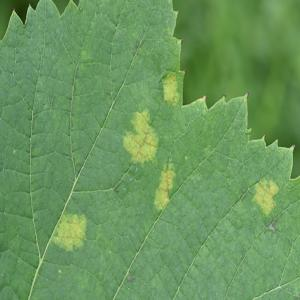Folha: (0, 0, 299, 299)
Fungo: (122, 107, 176, 212), (122, 107, 158, 165), (52, 211, 87, 253), (153, 160, 176, 212), (252, 177, 280, 217), (161, 71, 180, 106), (127, 273, 135, 282), (245, 91, 249, 98), (222, 93, 226, 97)
